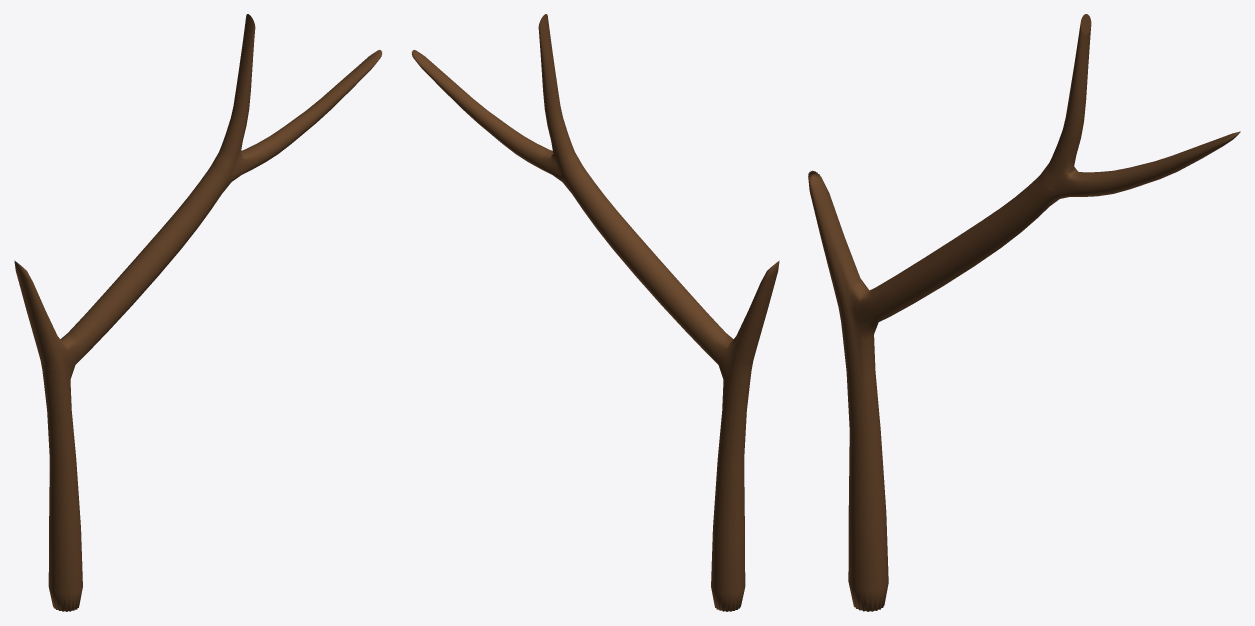
File: Branch_Breakable_FBX.fbx
3 views of the same model, side by side, from view 1: azimuth 30°, elevation 25°; view 2: azimuth 150°, elevation 25°; view 3: azimuth 330°, elevation 25° (orthographic). The views are drawn at different scales.
Parts seen in each view (by area): view 1: Breakable_Branch; view 2: Breakable_Branch; view 3: Breakable_Branch.
Part boxes in pixels (x1=…): Breakable_Branch: x1=14, y1=14, x2=382, y2=611; Breakable_Branch: x1=411, y1=14, x2=779, y2=611; Breakable_Branch: x1=808, y1=14, x2=1240, y2=611.
Bounding box in the file's own units: 2.66 × 3.81 × 0.2136.
